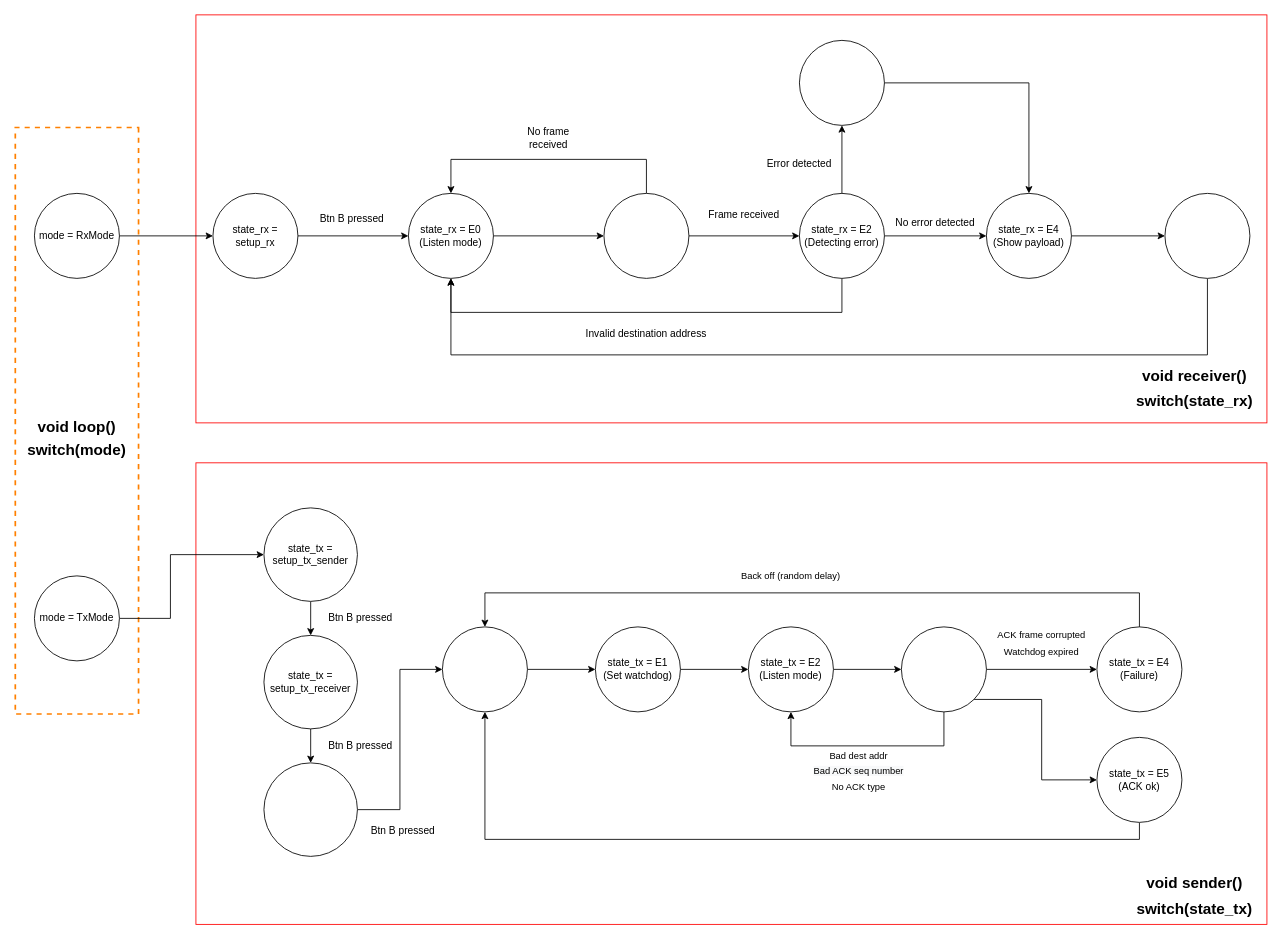
Image size: 1282x939. Some labels were removed from this diagram. The shapes that lost their labels are listed below. From the top down, each one's box as (x1, y1, x2, y2) in pixels, then its label:
(799, 40, 884, 125): state_rx = E3 (Correcting error)
(603, 193, 689, 278): state_rx = E1 (Frame detection)
(1164, 193, 1250, 278): state_rx = E5 (Send ACK)
(442, 626, 527, 712): state_tx = E0 (Send frame)
(901, 626, 986, 712): state_tx = E3 (Frame detection)
(263, 762, 357, 856): state_tx = setup_tx_message
